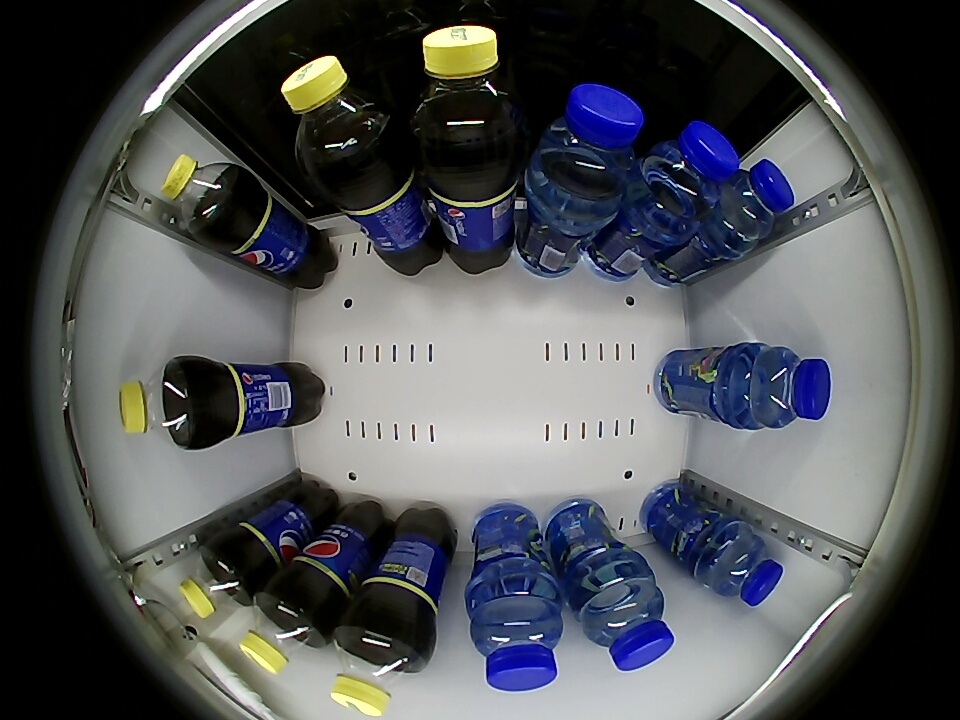baishikele: (408, 25, 524, 152), (281, 55, 393, 172), (330, 617, 429, 718), (239, 585, 329, 674), (119, 359, 200, 449), (159, 154, 243, 235), (179, 541, 256, 618)
maidong: (530, 82, 646, 208), (637, 121, 740, 222), (577, 570, 675, 673), (467, 590, 564, 693), (737, 345, 832, 430), (712, 159, 795, 247), (701, 526, 784, 608)
